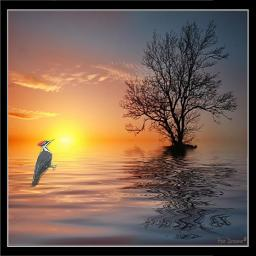Woodpecker: (29, 138, 57, 187)
